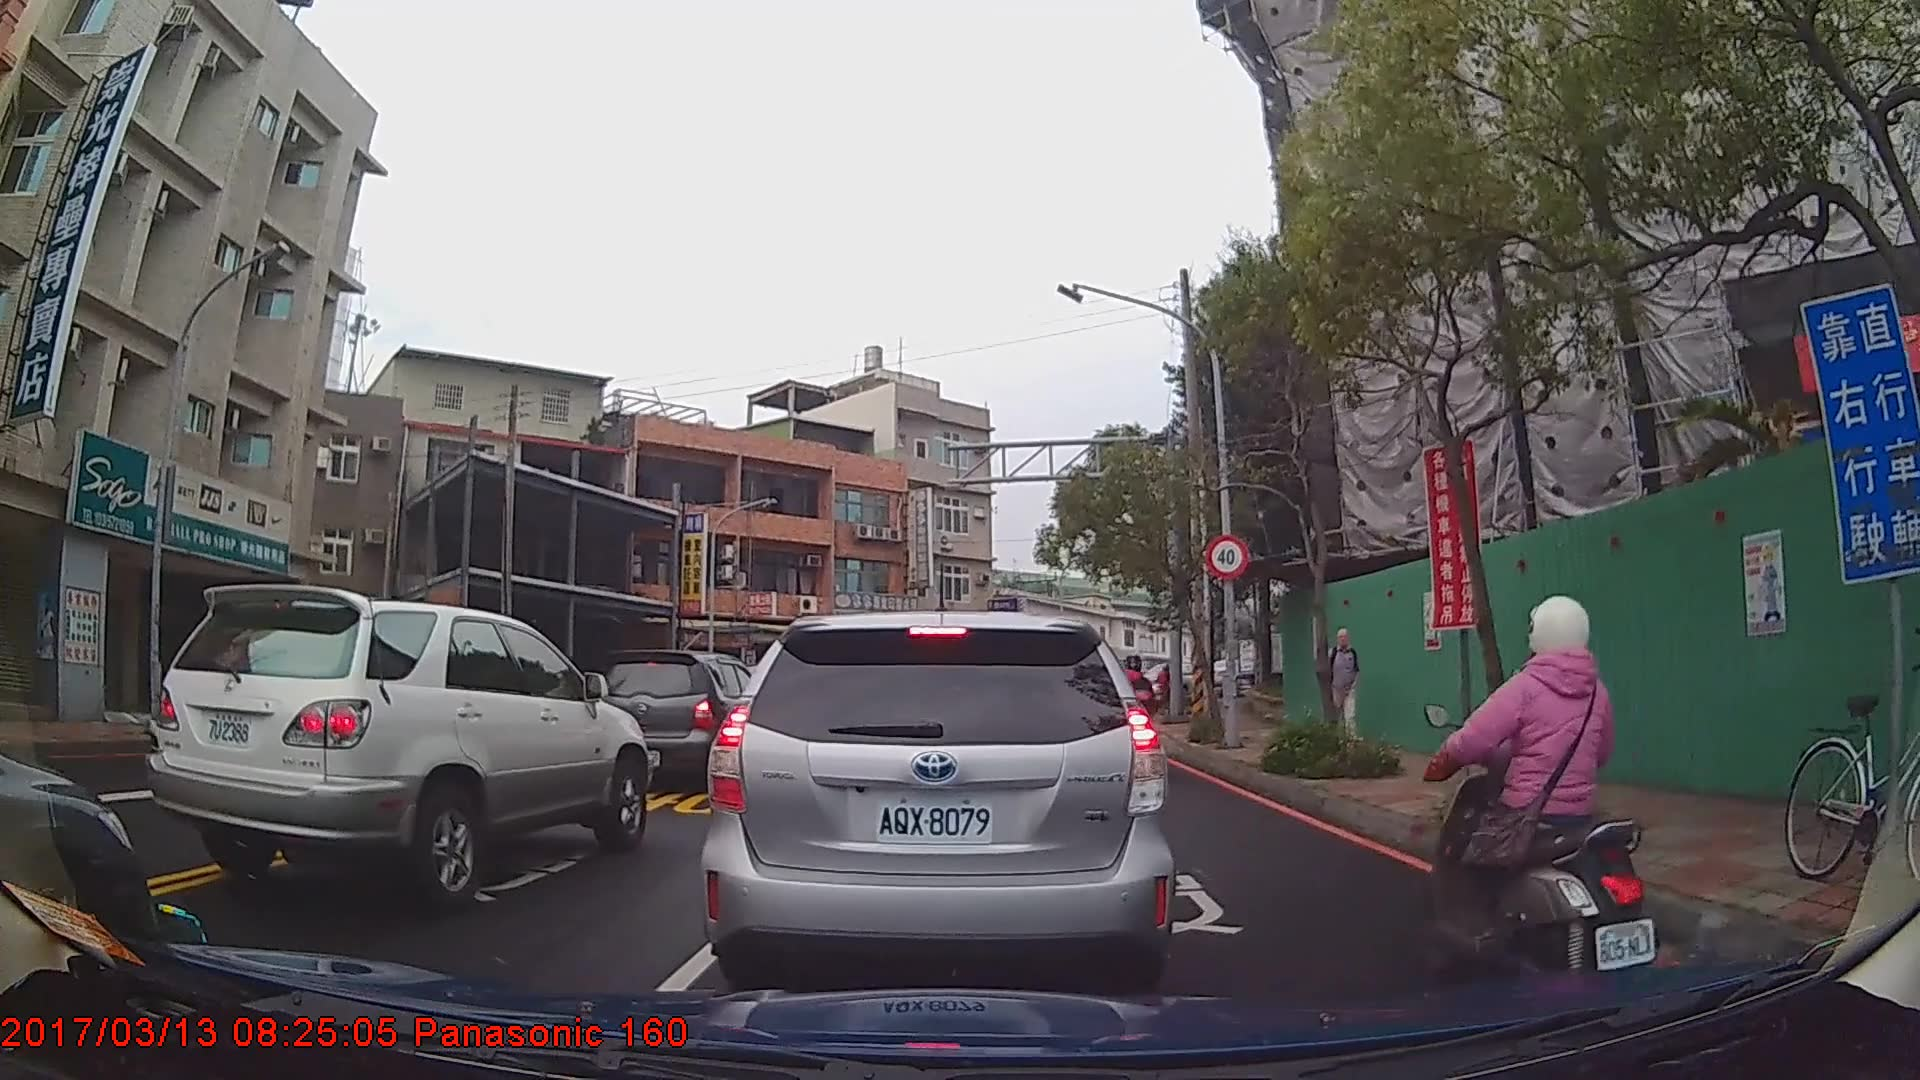pedestrian: (1323, 626, 1366, 749)
rider: (1414, 593, 1657, 1012), (1120, 653, 1160, 771)
vehicle: (695, 611, 1176, 1017), (148, 582, 653, 911), (591, 647, 770, 784)
